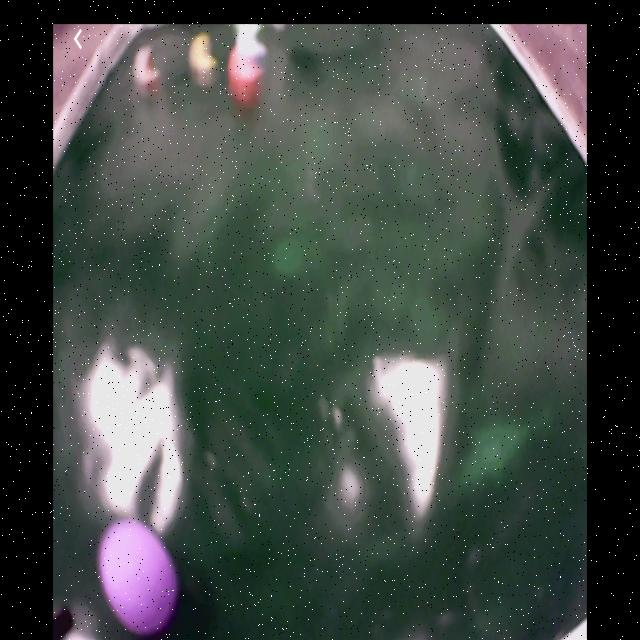ball: (99, 517, 178, 633)
